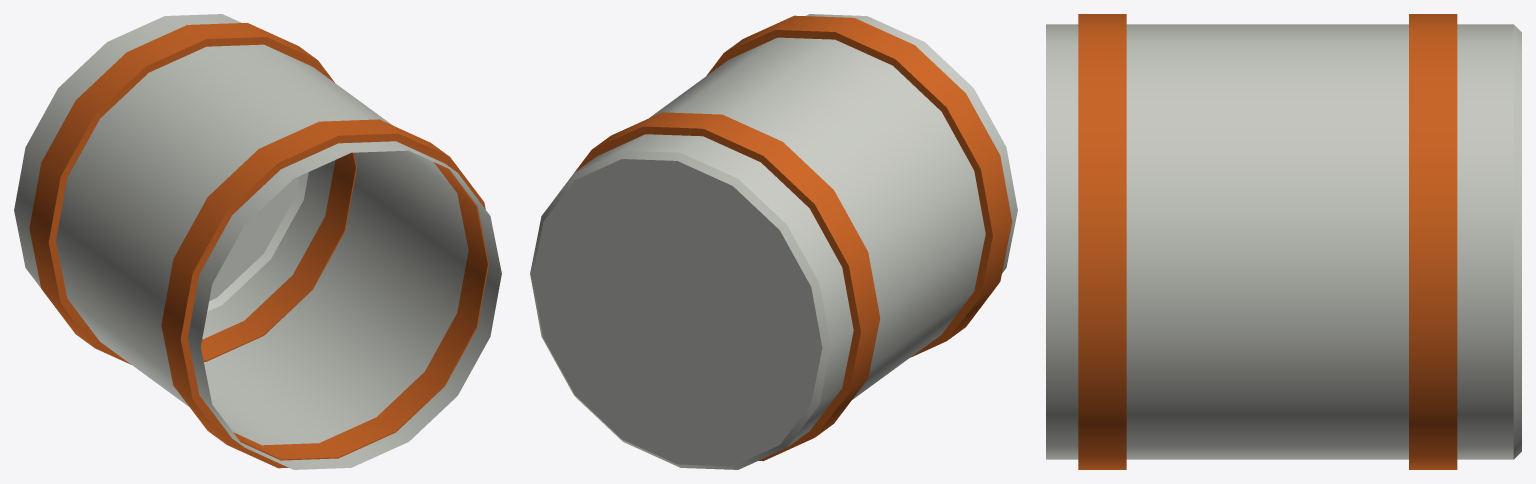
File: u33_housing.obj
3 views of the same model, side by side, from view 1: azimuth 30°, elevation 25°; view 2: azimuth 150°, elevation 25°; view 3: azimuth 270°, elevation 25° (orthographic). The views are drawn at different scales.
Visible parts, largest first — view 1: u33_housing; view 2: u33_housing; view 3: u33_housing.
Boxes of the visible parts, bbox=[...] form: u33_housing: bbox=[14, 14, 501, 469]; u33_housing: bbox=[530, 14, 1017, 469]; u33_housing: bbox=[1046, 14, 1521, 469].
Size of the model in its own units: 2.83 by 2.83 by 2.95.
